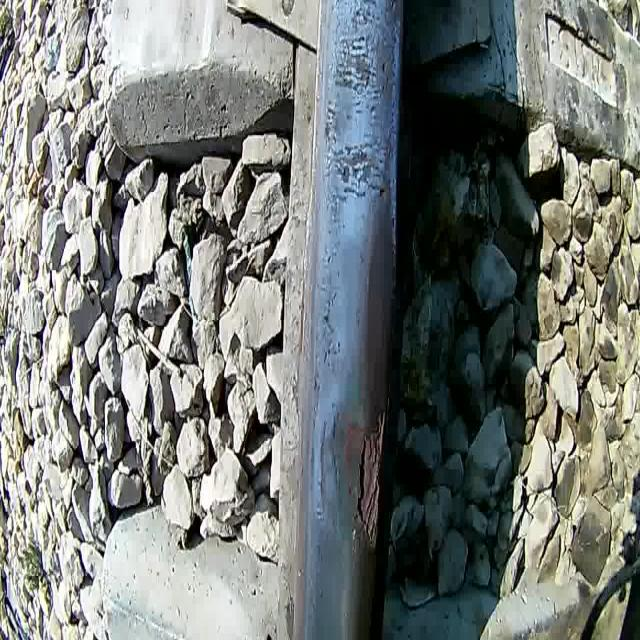Cracks: (316, 402, 343, 521), (322, 281, 341, 338)
Spallings: (350, 398, 391, 554)
Squats: (320, 135, 402, 639), (322, 0, 394, 226)
